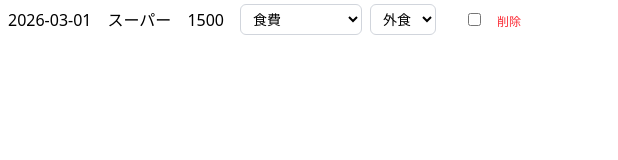
EditableTransactionRow › updateTransaction が失敗したとき元の値に戻る
Click the button "スーパー" at (139, 20), box [108,8,171,32]
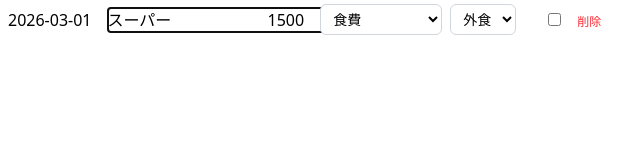
Replace the text in the field named "description" with "失敗する内容" at (223, 20), box [108,8,338,32]
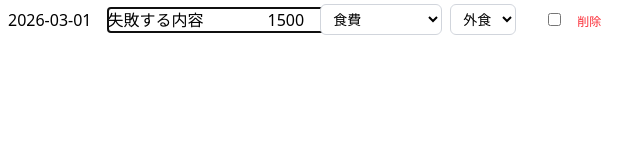
Press Tab
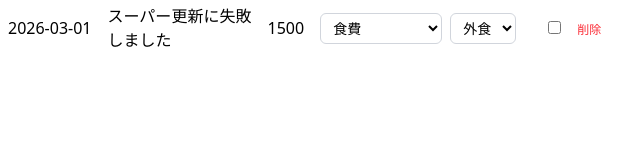
Expected: the button "スーパー" is shown, [108,4,171,28]
